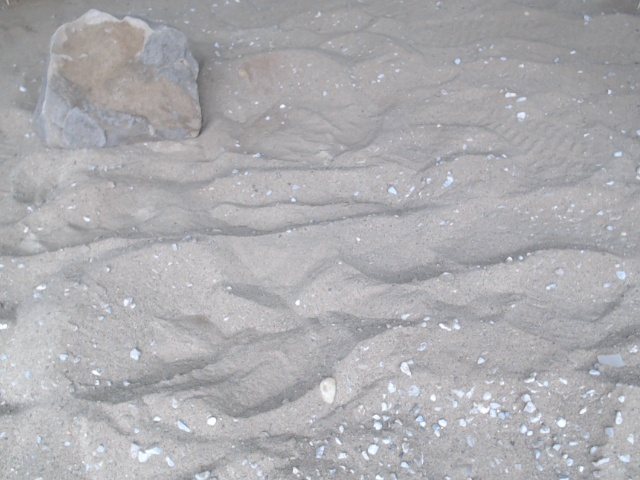rock: (24, 3, 212, 160)
